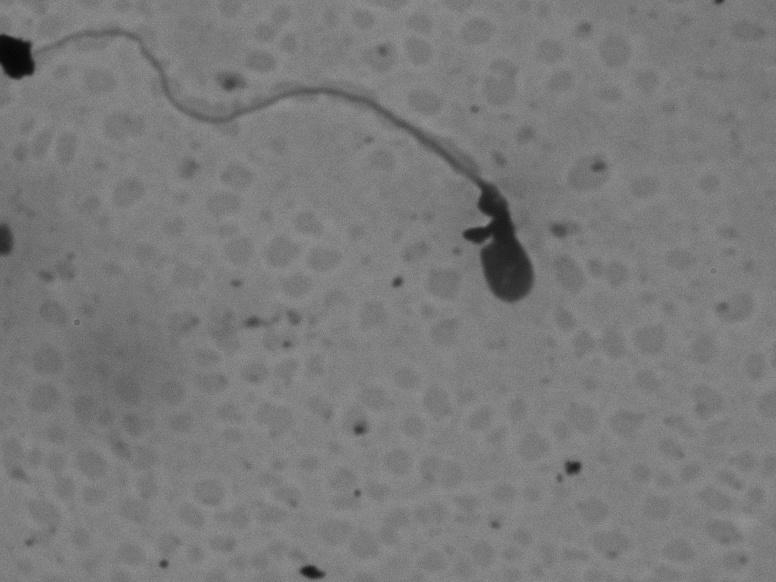Abnormal: (45, 22, 607, 322)
